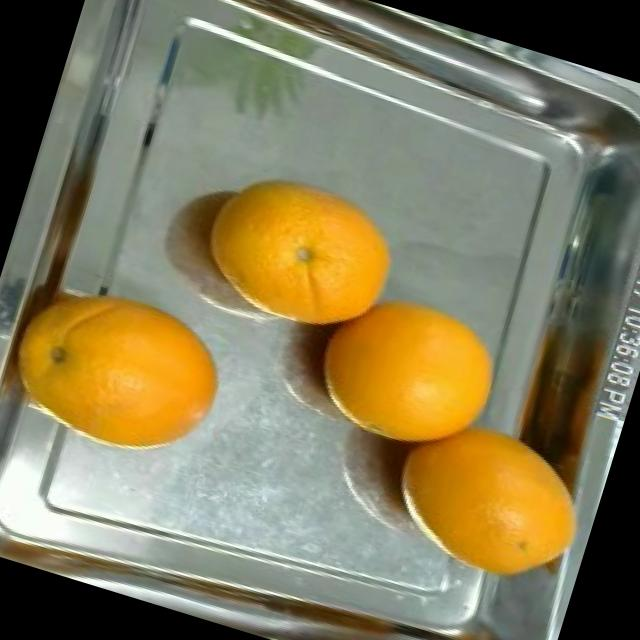Fruit: (352, 382, 616, 612), (280, 256, 530, 480), (8, 264, 249, 482), (186, 148, 425, 351)
